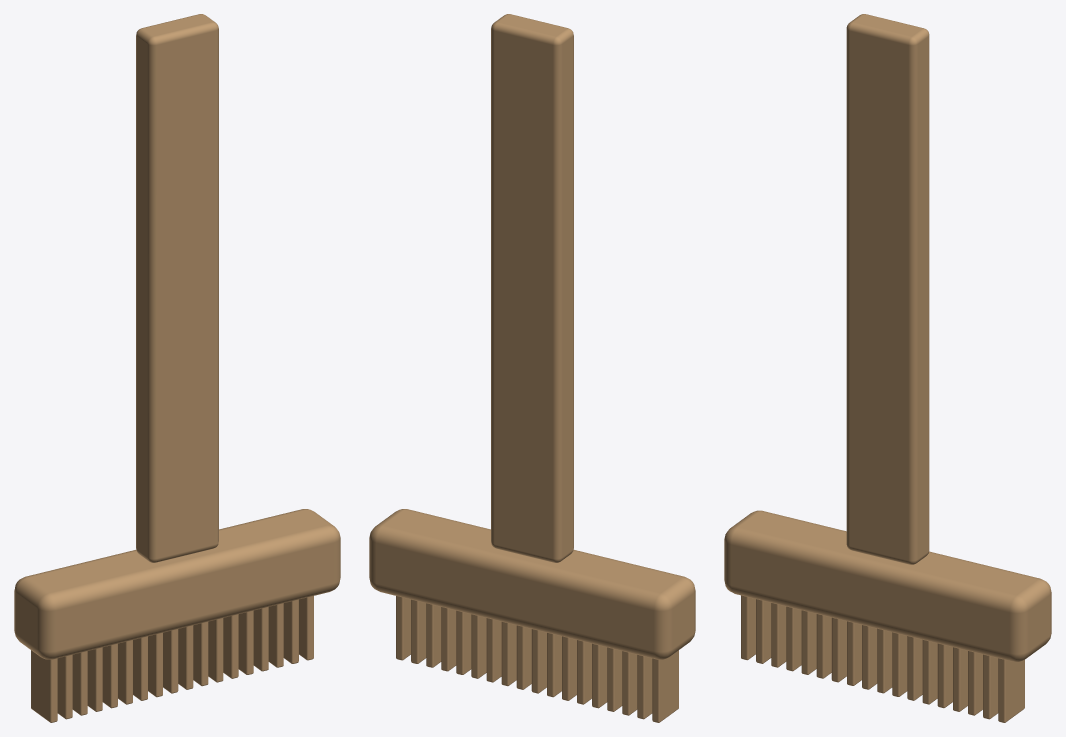
Rendered from beekeeping-and-honey-farm-bee-brush-ec9c87a6__30717.glb.
The picture shows the model from 3 angles, left to right: view 1: azimuth 30°, elevation 25°; view 2: azimuth 150°, elevation 25°; view 3: azimuth 330°, elevation 25°; orthographic projection.
Visible parts, largest first — view 1: bee-brush; view 2: bee-brush; view 3: bee-brush.
Part boxes in pixels (<box>): bee-brush: <box>14,14,340,722</box>; bee-brush: <box>369,14,695,722</box>; bee-brush: <box>724,14,1051,722</box>.
Bounding box in the file's own units: 0.12 × 0.25 × 0.024.
